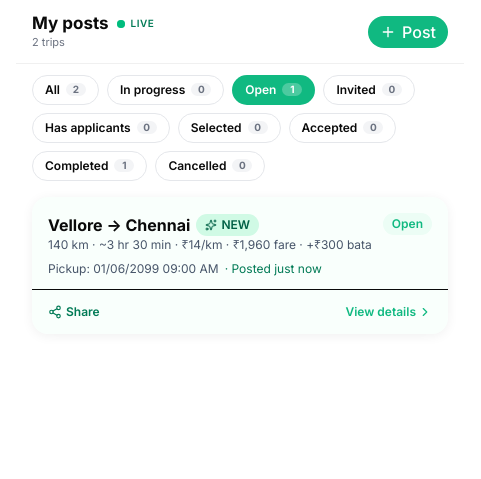
Scenario: PostedTripsPage › lists the caller's trips and filters by status
Step 1. Click the button "All 2" → click(66, 90), box left=32, top=75, right=99, bottom=105
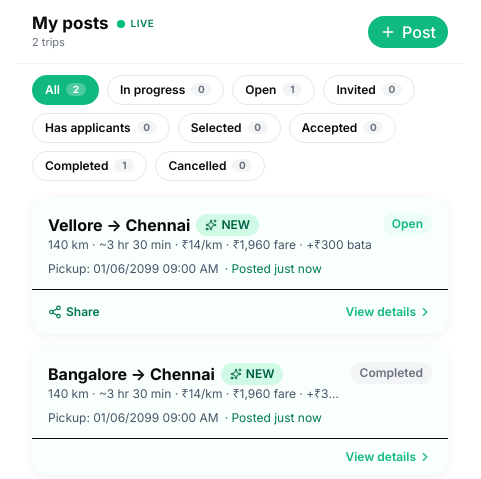
Expected: the text "Vellore → Chennai" is shown, left=48, top=213, right=190, bottom=237
Expected: the text "Bangalore → Chennai" is shown, left=48, top=362, right=215, bottom=386
Step 2. Click the button "Completed 1" → click(90, 166), box left=32, top=151, right=147, bottom=181
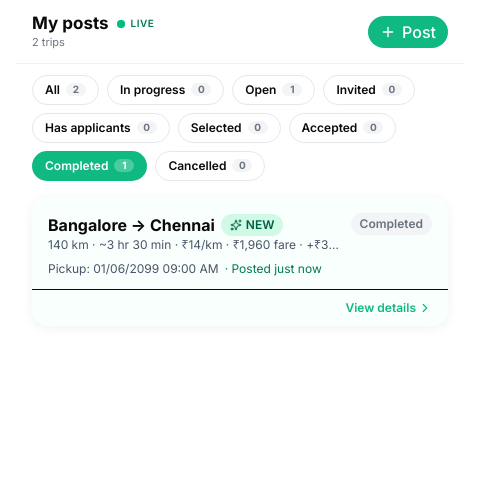
Expected: the text "Bangalore → Chennai" is shown, left=48, top=213, right=215, bottom=237
Expected: the link "Vellore → Chennai" is gone
